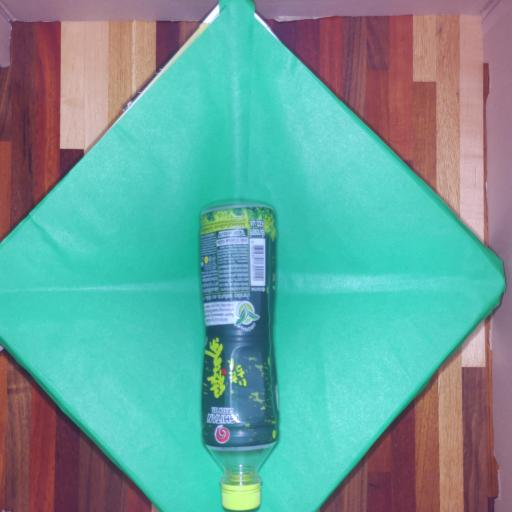bottle: (196, 196, 285, 512)
